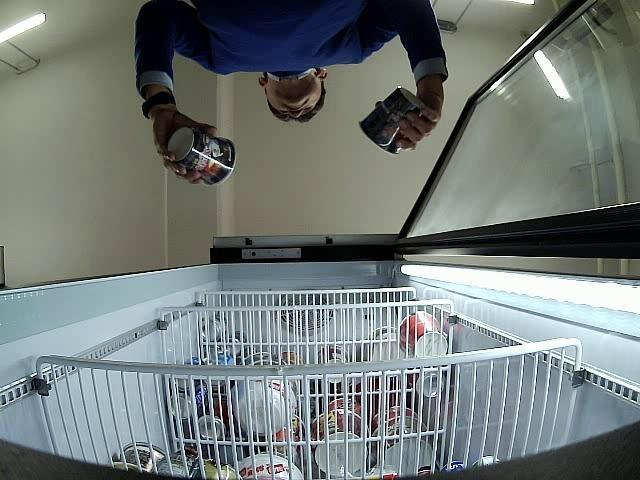08_buldak_S: (360, 88, 422, 156), (167, 128, 236, 186)
